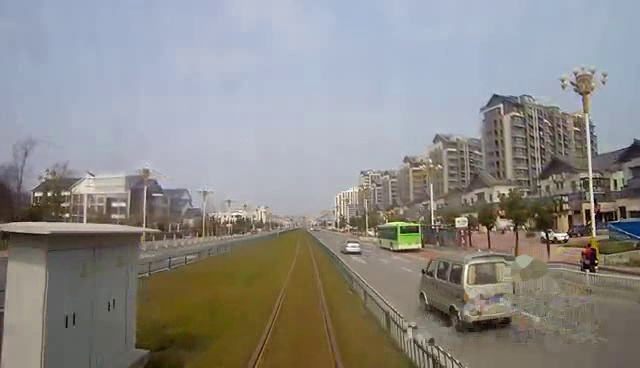bus: (375, 218, 428, 253)
car: (415, 251, 520, 324), (341, 238, 368, 256)
